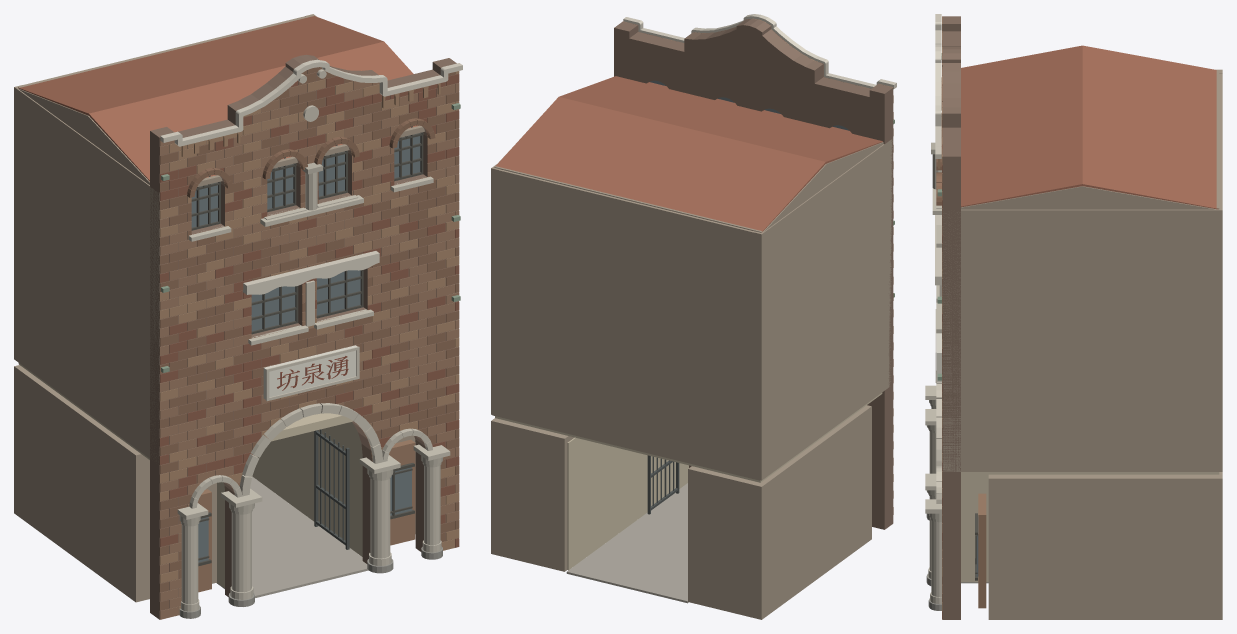
Rendered from jingan-bubbling-well-lane-gate-lod.glb.
3 views of the same model, side by side, from view 1: azimuth 30°, elevation 25°; view 2: azimuth 150°, elevation 25°; view 3: azimuth 270°, elevation 25° (orthographic). The views are drawn at different scales.
Parts seen in each view (by area): view 1: 涌泉坊愚园路中央拱门与门楼; view 2: 涌泉坊愚园路中央拱门与门楼; view 3: 涌泉坊愚园路中央拱门与门楼.
Boxes of the visible parts, x1,y1,x2,y2 form: 涌泉坊愚园路中央拱门与门楼: (14, 14, 462, 619); 涌泉坊愚园路中央拱门与门楼: (491, 14, 896, 619); 涌泉坊愚园路中央拱门与门楼: (925, 14, 1222, 619).
Bounding box in the file's own units: 8.6 × 14.43 × 7.69.
